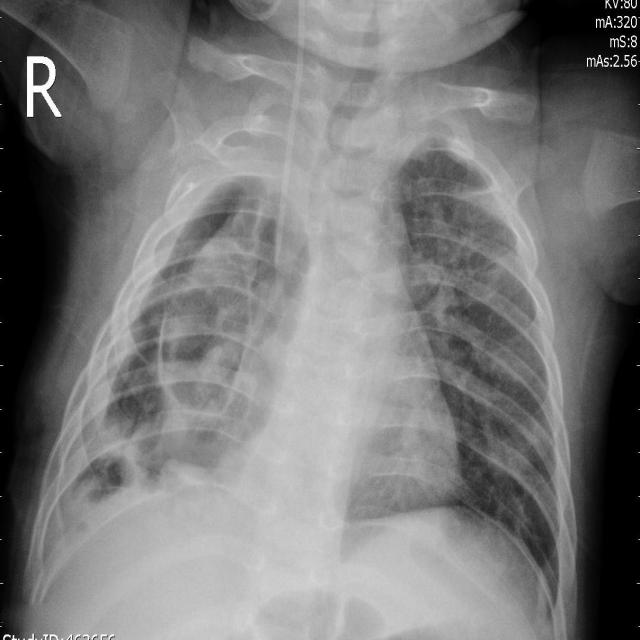low-pneumonia: (91, 173, 313, 476), (406, 145, 518, 385)
